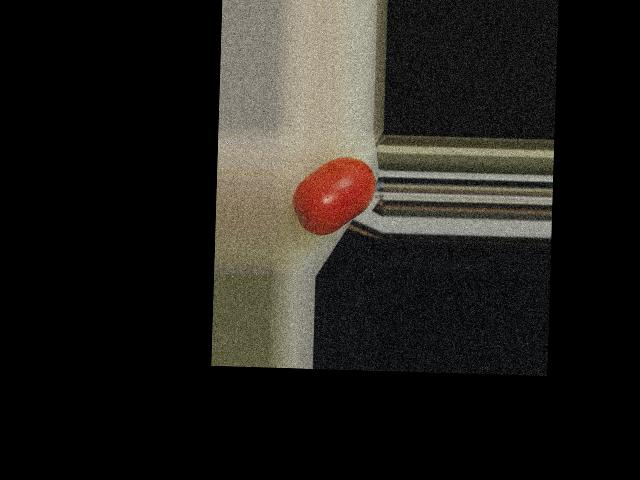tomato: (291, 155, 376, 236)
